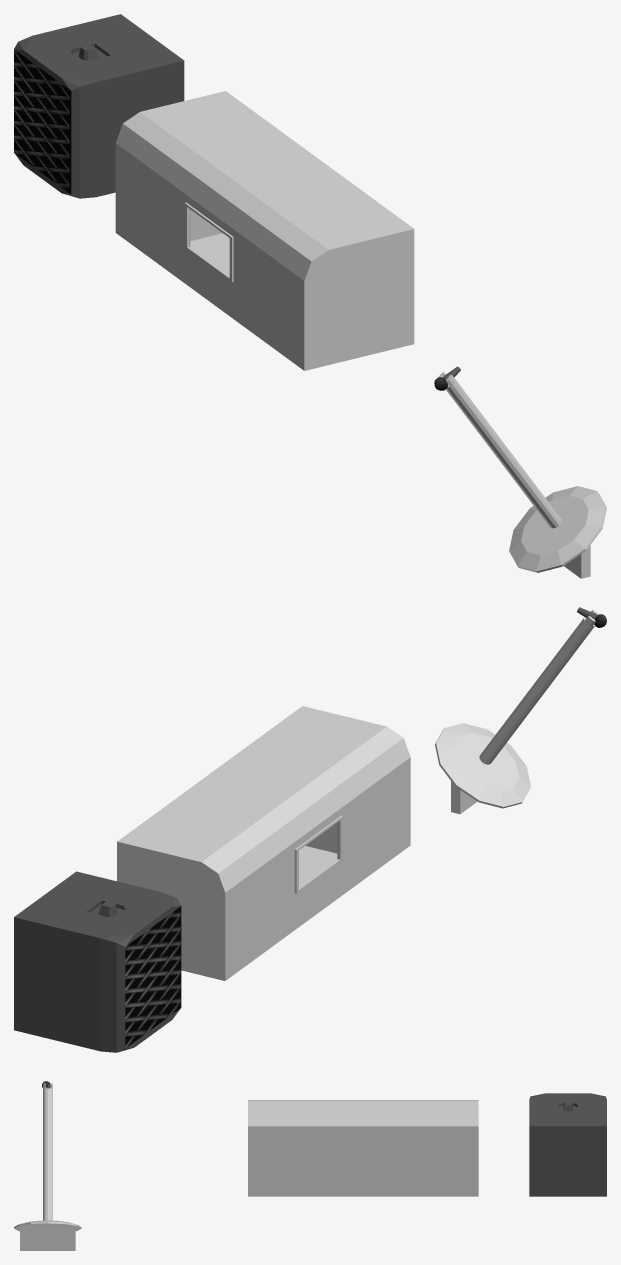
File: Microphone.fbx
The picture shows the model from 3 angles, top to bottom: view 1: azimuth 30°, elevation 25°; view 2: azimuth 150°, elevation 25°; view 3: azimuth 270°, elevation 25°; orthographic projection. The views are drawn at different scales.
Visible parts, largest first — view 1: Chest, Speaker, Stand; view 2: Chest, Speaker, Stand; view 3: Chest, Speaker, Stand, holder.
Boxes of the visible parts, x1=… form: Chest: x1=115, y1=91, x2=414, y2=370; Speaker: x1=14, y1=14, x2=184, y2=198; Stand: x1=438, y1=372, x2=606, y2=572; Chest: x1=117, y1=706, x2=410, y2=980; Speaker: x1=14, y1=871, x2=181, y2=1052; Stand: x1=435, y1=610, x2=598, y2=808; Chest: x1=248, y1=1100, x2=478, y2=1196; Speaker: x1=529, y1=1093, x2=606, y2=1196; Stand: x1=14, y1=1083, x2=81, y2=1231; holder: x1=20, y1=1227, x2=75, y2=1250.
Size of the model in its own units: 897 by 1141 by 4580.
